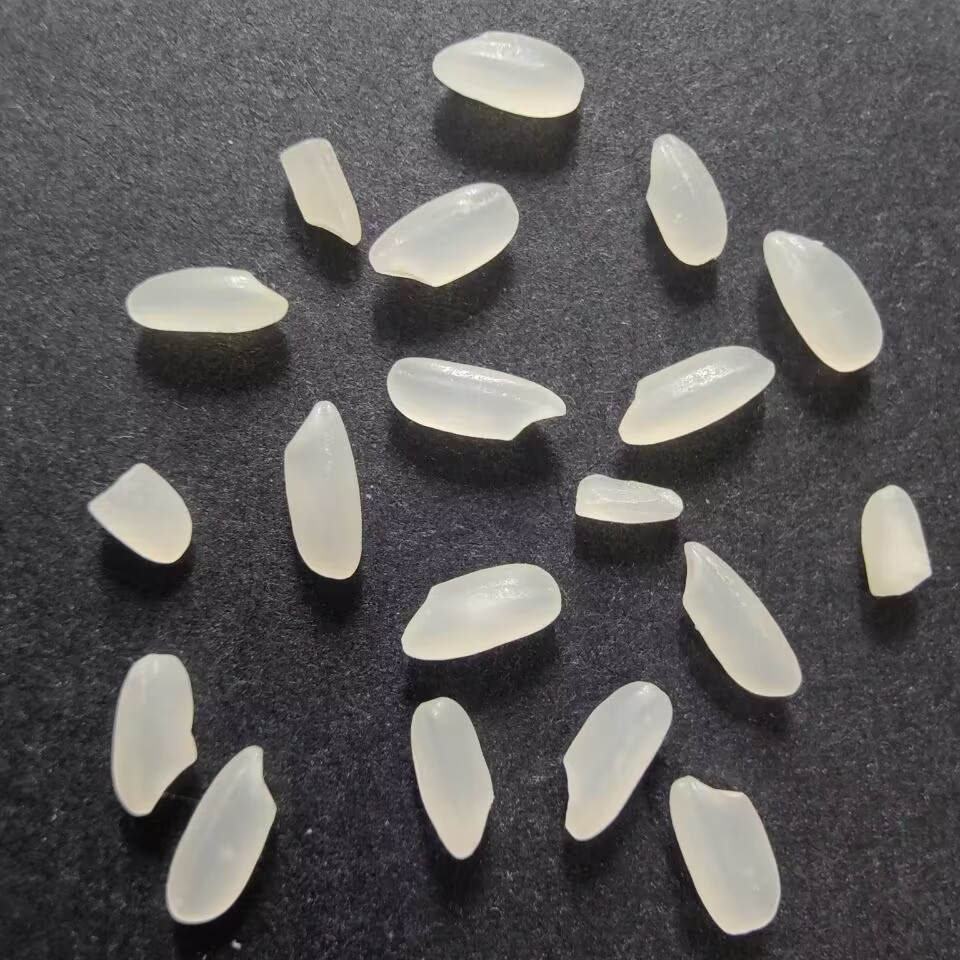broken: (81, 458, 200, 571), (275, 134, 366, 249), (853, 479, 938, 602), (567, 468, 692, 532)
rice: (162, 738, 283, 933), (673, 538, 811, 700), (557, 677, 678, 849), (667, 773, 786, 940), (390, 557, 566, 665), (758, 227, 885, 375), (106, 647, 208, 825), (364, 178, 521, 293), (273, 394, 367, 585), (609, 342, 779, 447), (385, 353, 572, 442), (405, 690, 500, 863), (430, 29, 589, 123), (121, 262, 291, 339), (642, 128, 733, 267)
